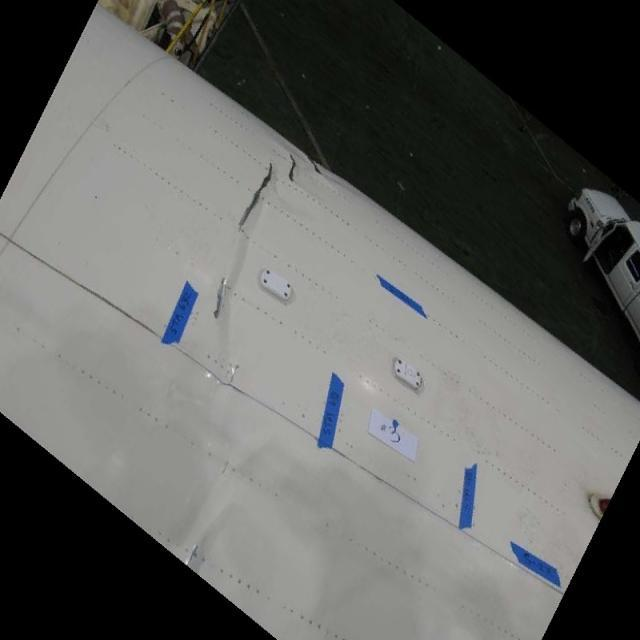crack: (238, 164, 274, 237), (211, 276, 230, 327), (289, 152, 300, 186)
